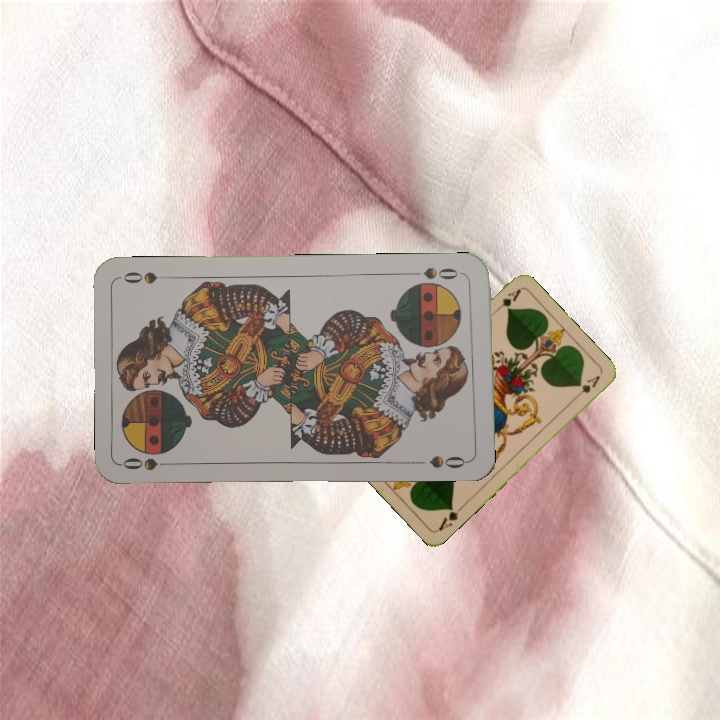GA: (489, 285, 523, 317), (434, 501, 466, 534)
SO: (407, 263, 466, 283), (120, 453, 179, 473)
